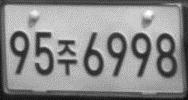5: (33, 30, 54, 76)
6: (81, 30, 104, 76)
8: (155, 32, 178, 79)
9: (130, 31, 152, 78), (106, 31, 127, 77), (9, 30, 30, 75)
주: (56, 38, 78, 76)
